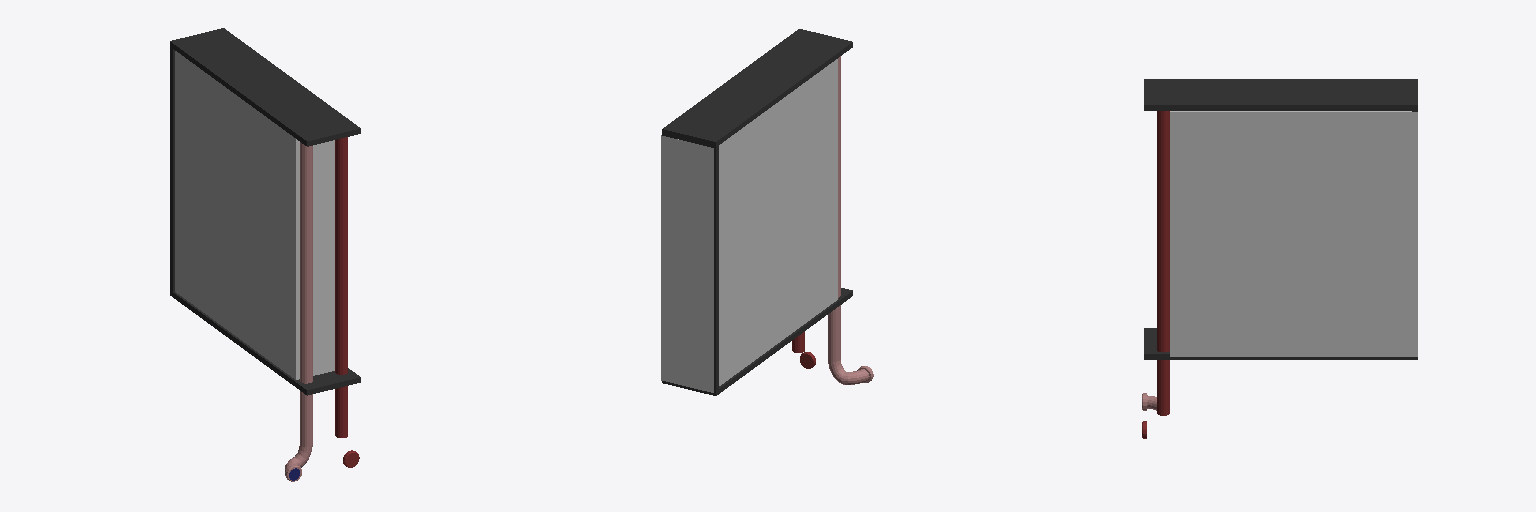
Rendered from HeatingCoil.obj.
The picture shows the model from 3 angles: view 1: azimuth 30°, elevation 25°; view 2: azimuth 150°, elevation 25°; view 3: azimuth 270°, elevation 25°; orthographic projection.
Parts seen in each view (by area): view 1: HeatingCoil; view 2: HeatingCoil; view 3: HeatingCoil.
Part boxes in pixels (x1,y1,x2,y2): HeatingCoil: (170,28,360,481); HeatingCoil: (661,29,873,395); HeatingCoil: (1142,79,1417,438).
Size of the model in its own units: 0.5436 by 2.34 by 1.74.